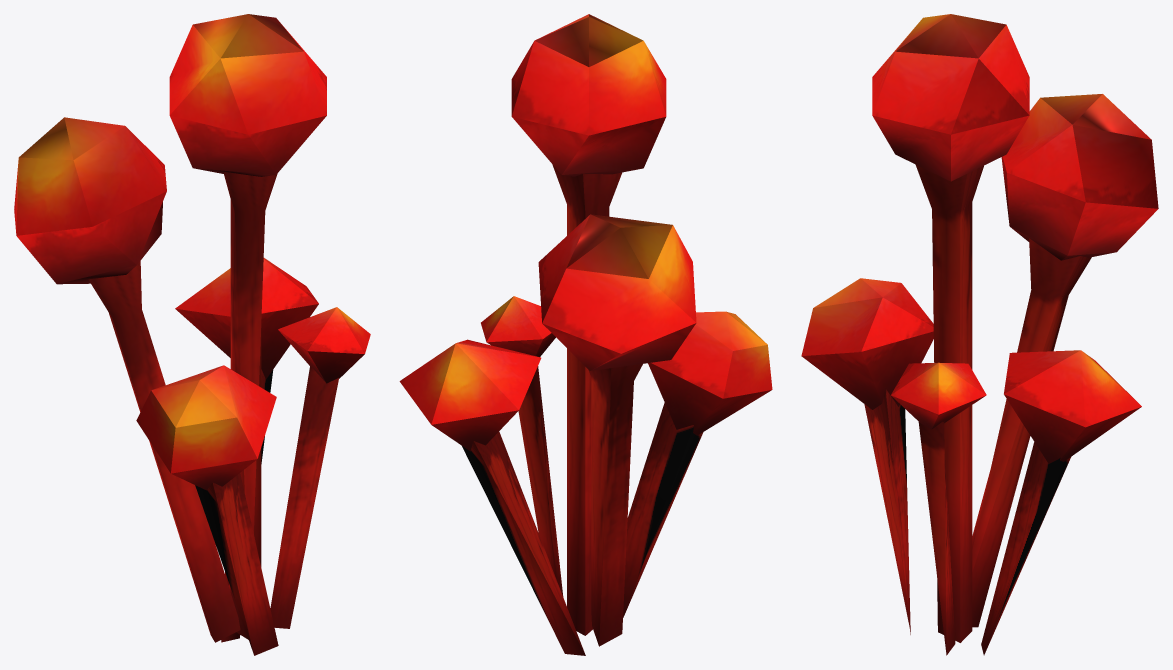
File: mush22.fbx
3 renders of one model, left to right at view 1: azimuth 30°, elevation 25°; view 2: azimuth 150°, elevation 25°; view 3: azimuth 270°, elevation 25°, orthographic.
Parts seen in each view (by area): view 1: shrooms22; view 2: shrooms22; view 3: shrooms22.
Boxes of the visible parts, <box> form: shrooms22: <box>14,14,370,655</box>; shrooms22: <box>399,14,772,655</box>; shrooms22: <box>801,14,1158,655</box>.
Size of the model in its own units: 1076 by 2214 by 1123.
Materials: 1 (1 with a texture image).
